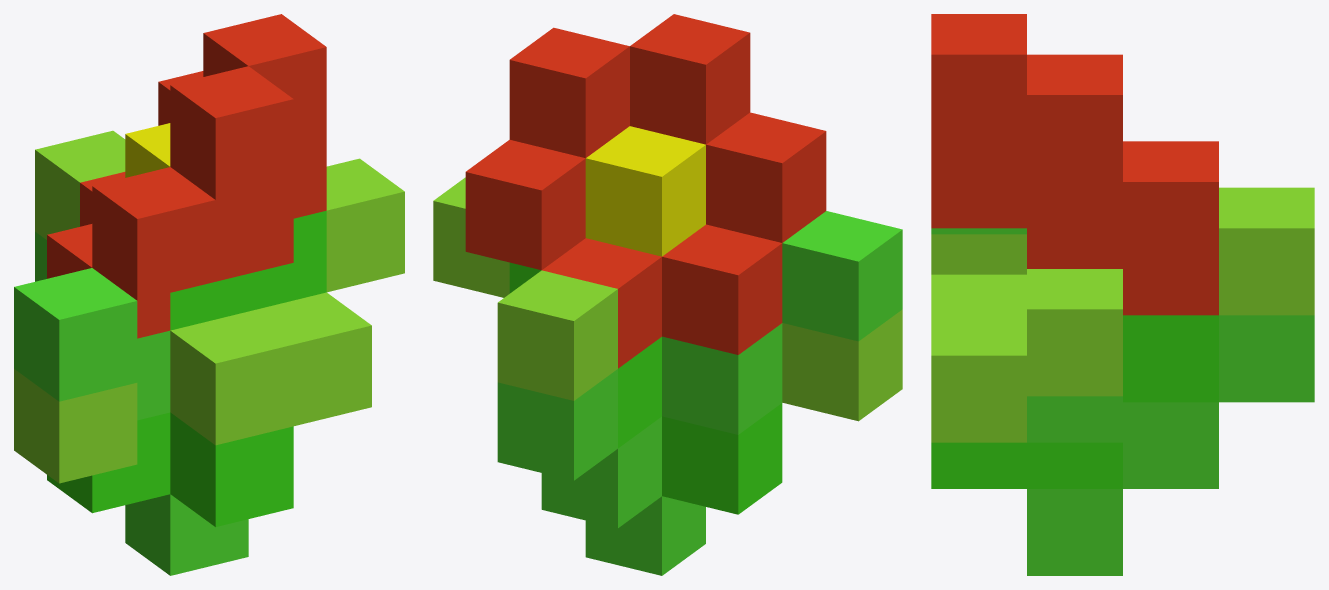
The model's file is tile-49.obj.
The picture shows the model from 3 angles, left to right: view 1: azimuth 30°, elevation 25°; view 2: azimuth 150°, elevation 25°; view 3: azimuth 270°, elevation 25°; orthographic projection. The views are drawn at different scales.
Size of the model in its own units: 0.5 by 0.6 by 0.4.
1 material, 1 textured.
